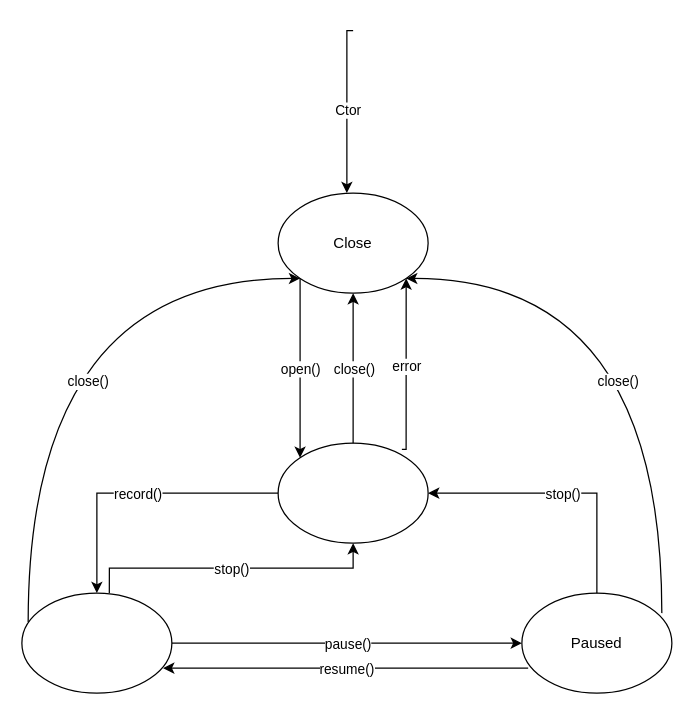
The diagram is 694 pixels wide and 715 high, and some of its shapes have lost their labels. The centre of each missing label's shape, as x and y in pixels:
"Playing" belongs at point 96,642.
"Stopped" belongs at point 352,492.
